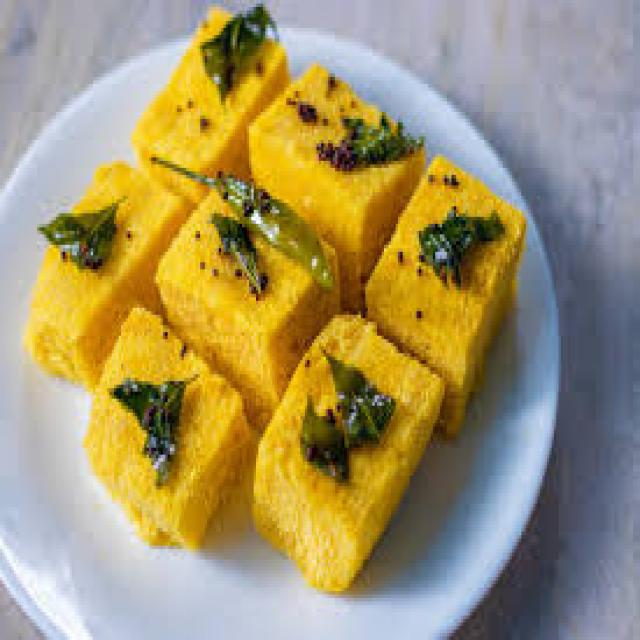DHOKLA: (247, 308, 450, 591), (246, 61, 432, 317), (362, 152, 527, 439), (158, 172, 343, 426), (80, 312, 253, 553), (23, 166, 191, 384), (135, 6, 291, 201)
